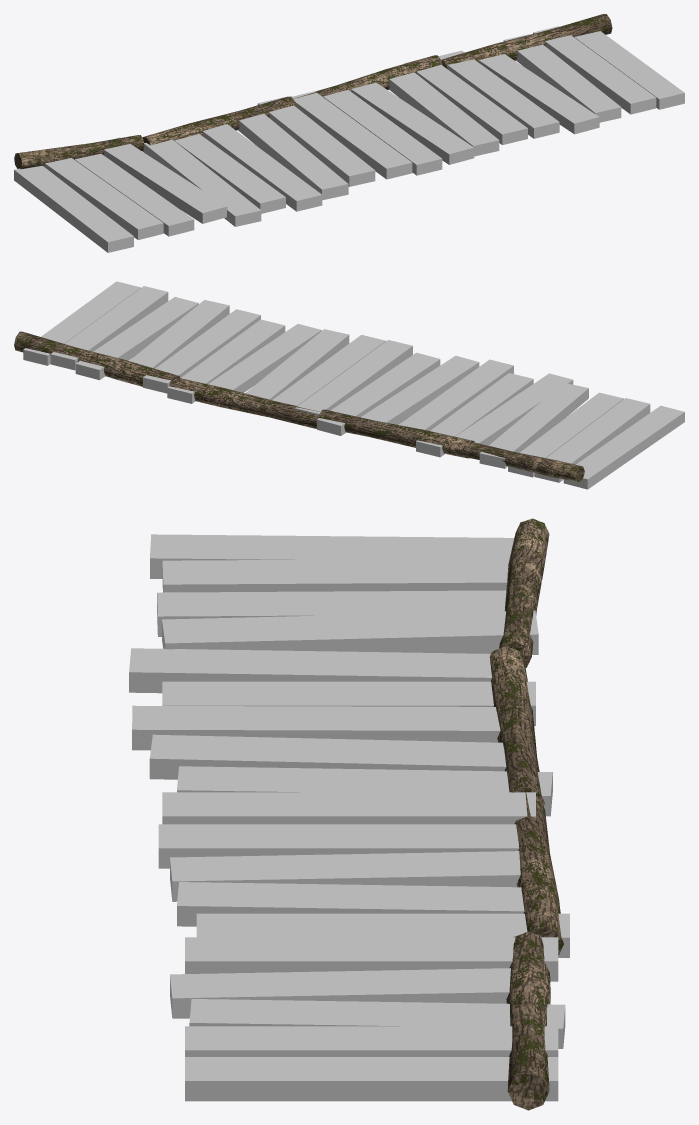
File: bridge.FBX
The picture shows the model from 3 angles, top to bottom: view 1: azimuth 30°, elevation 25°; view 2: azimuth 150°, elevation 25°; view 3: azimuth 270°, elevation 25°; orthographic projection. The views are drawn at different scales.
Visible parts, largest first — view 1: Object837; view 2: Object837; view 3: Object837.
Part boxes in pixels (x1,y1,x2,y2): Object837: (14, 14, 684, 252); Object837: (14, 281, 684, 489); Object837: (129, 518, 569, 1110).
Bounding box in the file's own units: 1212 × 56.52 × 405.
